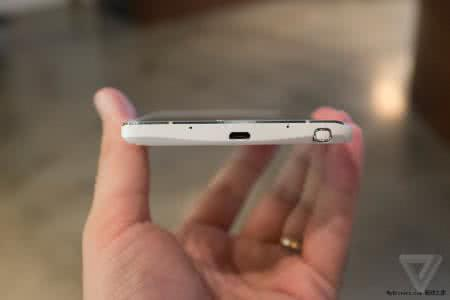phone: (121, 106, 360, 156)
